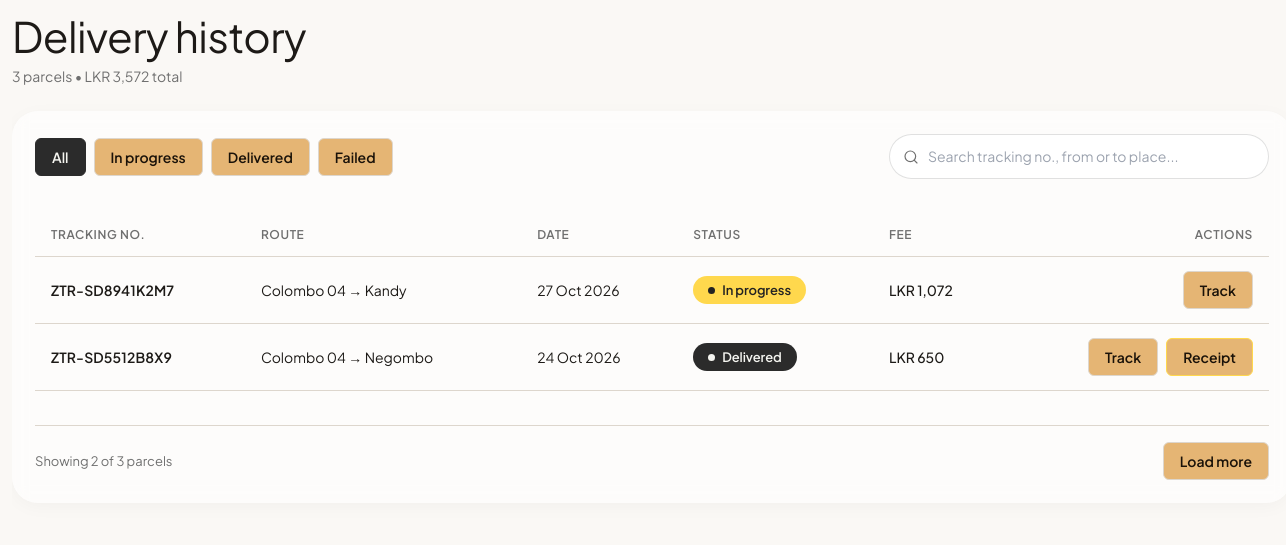
it: HistoryPage Component › supports "Load more" pagination using listParcels({ page, status, q })
Expected: the text "Showing 2 of 3 parcels" is shown, [35, 452, 172, 471]
Click the button "Load more" at (1216, 461), box [1163, 442, 1269, 480]
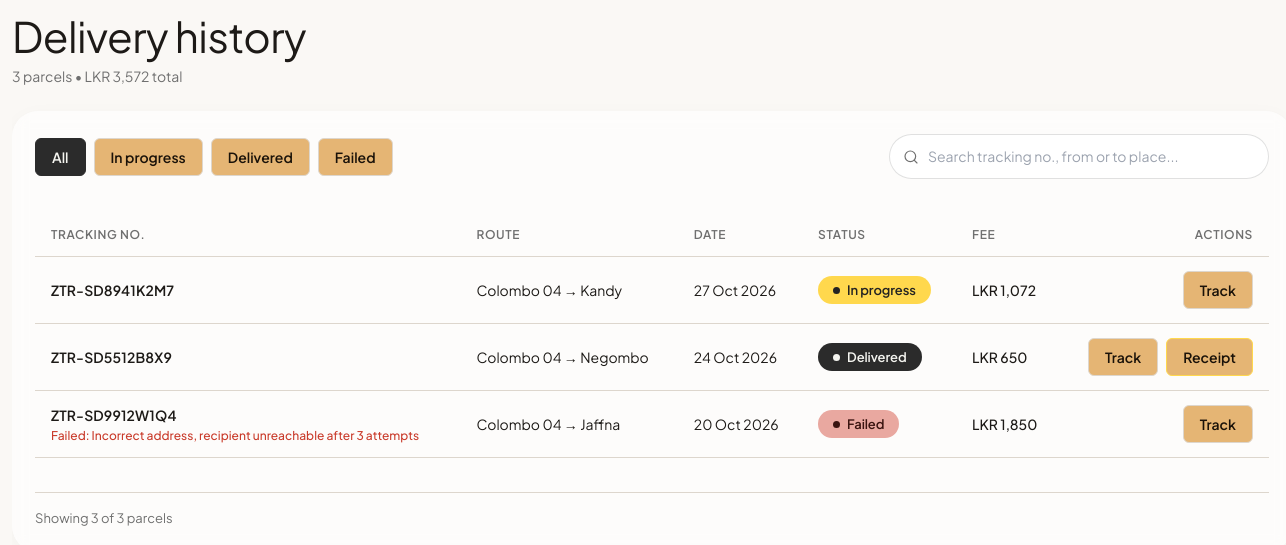
Result: the text "Showing 3 of 3 parcels" is shown at [35, 509, 173, 529]
Result: the button "Load more" is gone
